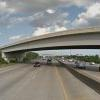Bridge: (2, 28, 100, 63)
